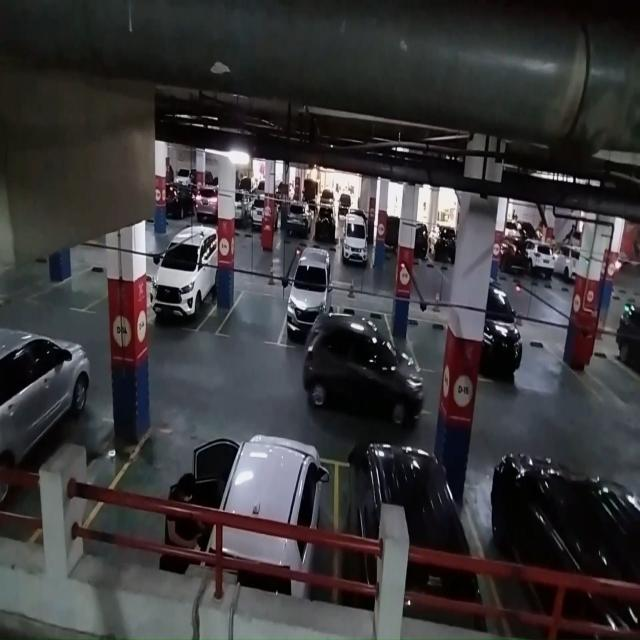empty: (219, 286, 283, 346), (406, 316, 447, 374), (283, 280, 312, 350)
occupied: (229, 426, 341, 522), (150, 239, 212, 334)
